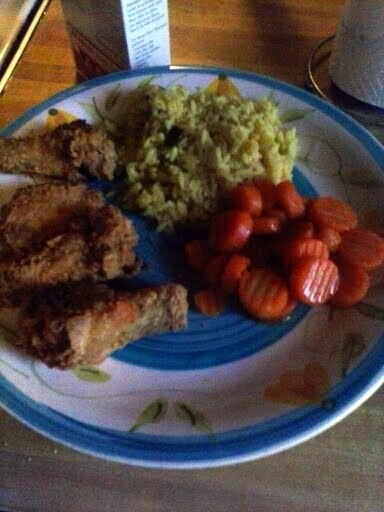background: (0, 66, 230, 295)
